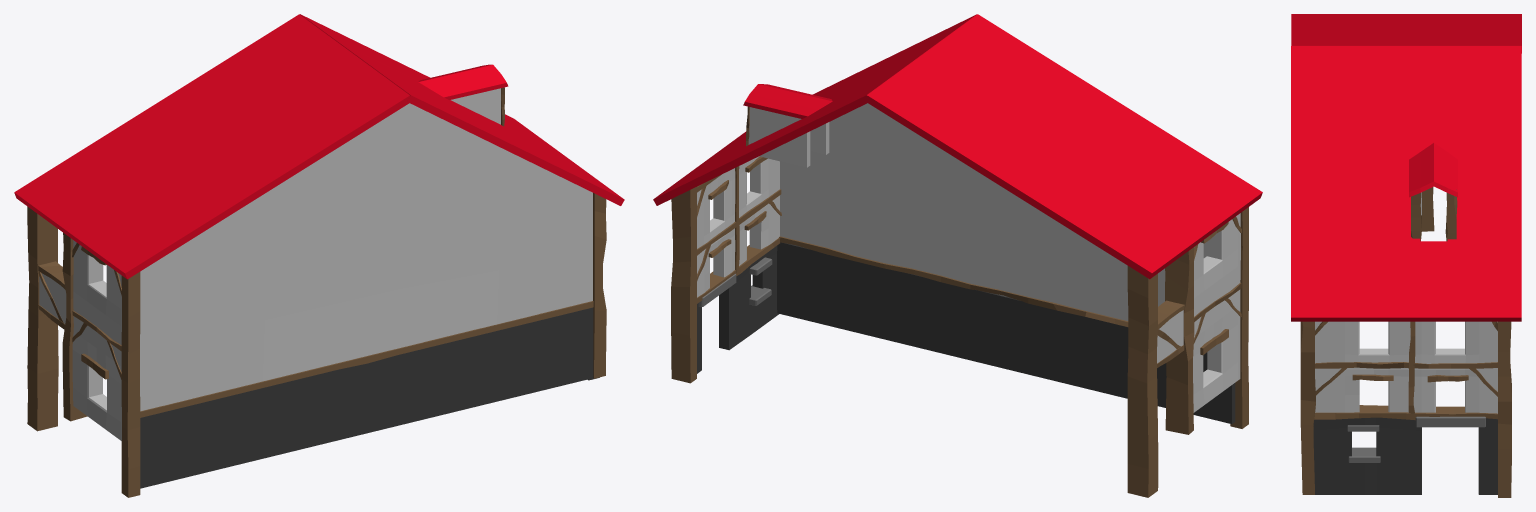
The model's file is Caserio.fbx.
3 views of the same model, side by side, from view 1: azimuth 30°, elevation 25°; view 2: azimuth 150°, elevation 25°; view 3: azimuth 270°, elevation 25° (orthographic). The views are drawn at different scales.
Parts seen in each view (by area): view 1: Cube.201, Cube.269, Cube.239, Cube.267, Cube.077; view 2: Cube.201, Cube.269, Cube.239, Cube.077, Cube.267, Cube.076; view 3: Cube.267, Cube.077, Cube.269, Cube.076, Cube.239.
Boxes of the visible parts, box(x1,y1,x2,y2) form: Cube.201: box(140, 103, 593, 488); Cube.269: box(14, 14, 410, 279); Cube.239: box(27, 206, 140, 497); Cube.267: box(300, 14, 624, 205); Cube.077: box(588, 193, 606, 380); Cube.201: box(777, 103, 1235, 423); Cube.269: box(865, 14, 1262, 279); Cube.239: box(1127, 207, 1248, 497); Cube.077: box(671, 156, 781, 383); Cube.267: box(653, 14, 977, 205); Cube.076: box(697, 237, 780, 303); Cube.267: box(1291, 46, 1521, 321); Cube.077: box(1300, 321, 1511, 497); Cube.269: box(1291, 14, 1521, 53); Cube.076: box(1314, 405, 1497, 420); Cube.239: box(1421, 187, 1434, 231).
Bounding box in the file's own units: 2925 × 1897 × 1125.
